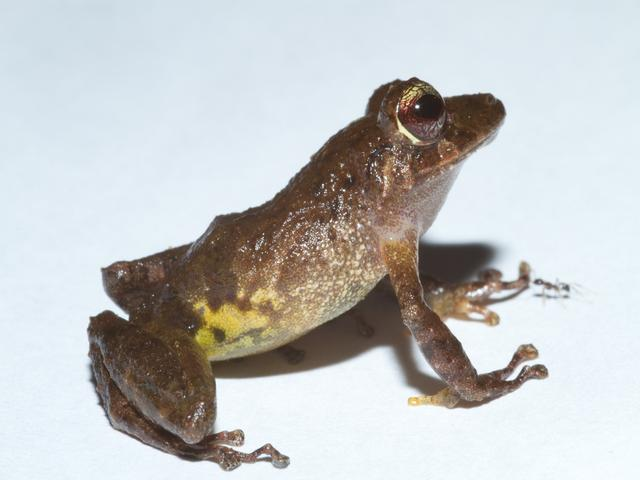frog: (49, 26, 617, 475)
